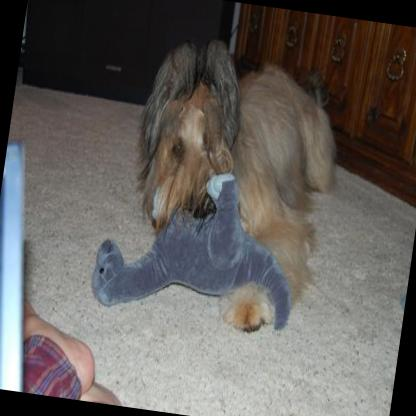briard: (116, 25, 354, 342)
